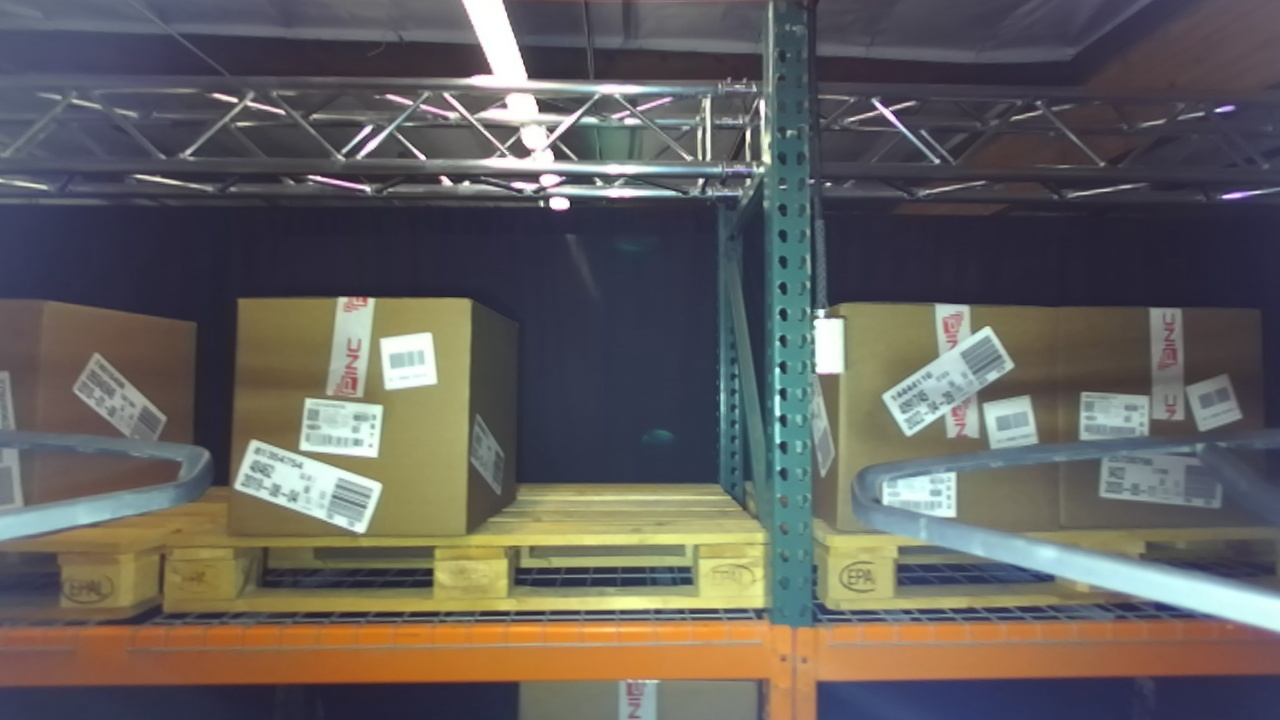box: (215, 279, 497, 562), (826, 273, 1083, 569), (1027, 271, 1272, 562)
